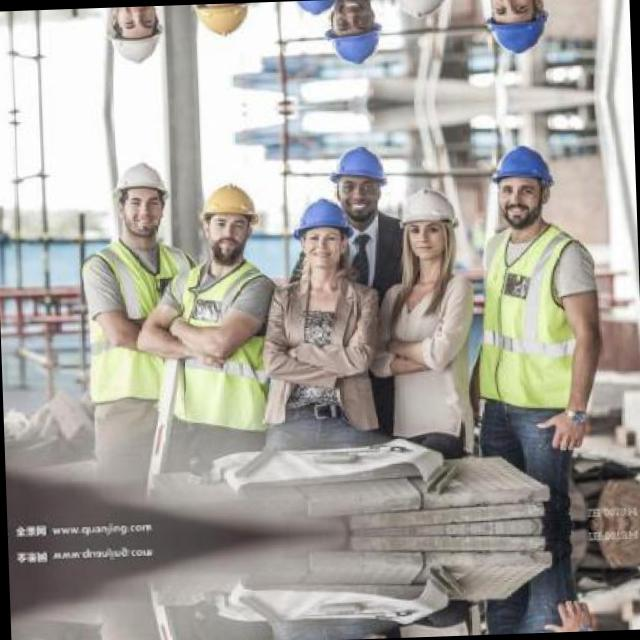helmet: (484, 137, 556, 230), (196, 172, 265, 261), (286, 190, 356, 276), (392, 181, 464, 263), (110, 152, 173, 236), (324, 137, 388, 219), (319, 0, 385, 73), (480, 0, 551, 62), (104, 6, 167, 74), (189, 2, 258, 47), (384, 0, 456, 25), (279, 0, 349, 23)
